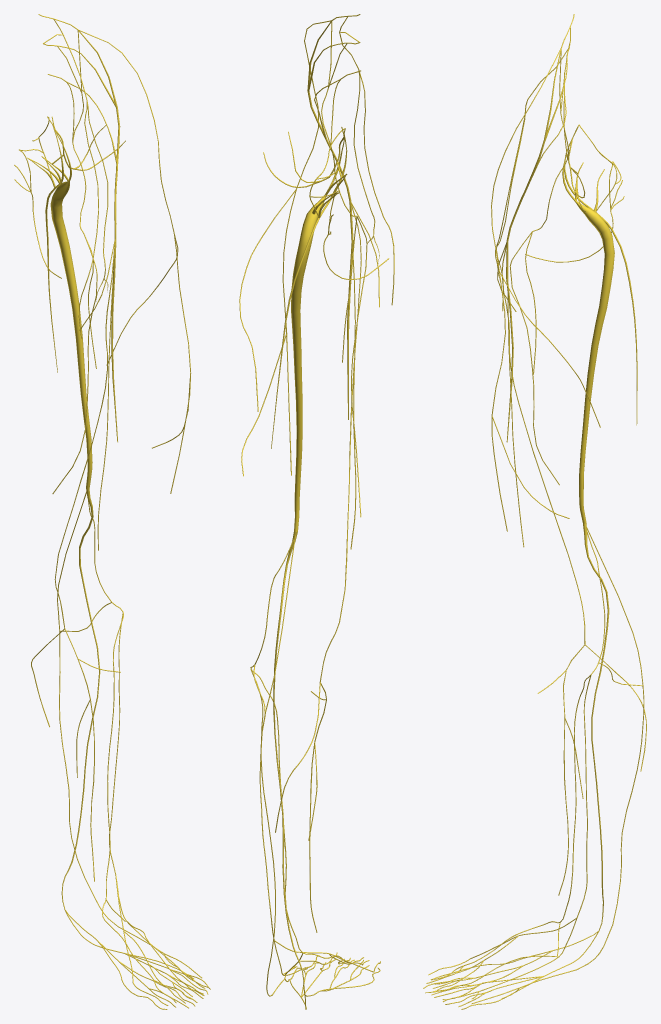
File: nerves.glb
3 renders of one model, left to right at view 1: azimuth 30°, elevation 25°; view 2: azimuth 150°, elevation 25°; view 3: azimuth 270°, elevation 25°, orthographic. The views are drawn at different scales.
Visible parts, largest first — view 1: Sciatic nerve.l.001, Femoral nerve.l.001, Saphenous nerve.l.001, Lateral femoral cutaneous nerve.l.001, Tibial nerve.l.001, Sural nerve.l.001, Deep fibular nerve.l.001, Obturator nerve.l.001, Posterior femoral cutaneous nerve.l.001; view 2: Sciatic nerve.l.001, Saphenous nerve.l.001, Lateral femoral cutaneous nerve.l.001, Femoral nerve.l.001, Tibial nerve.l.001, Posterior femoral cutaneous nerve.l.001, Sural nerve.l.001, Obturator nerve.l.001, Anterior branch of obturator nerve.l.001, Anterior cutaneous branches of femoral nerve.l.001, Deep fibular nerve.l.001, Genital branch of genitofemoral nerve.l.001 (+2 smaller); view 3: Sciatic nerve.l.001, Saphenous nerve.l.001, Lateral femoral cutaneous nerve.l.001, Femoral nerve.l.001, Tibial nerve.l.001, Sural nerve.l.001, Posterior femoral cutaneous nerve.l.001, Deep fibular nerve.l.001.
Part boxes in pixels (left/top/right/bottom): Sciatic nerve.l.001: left=28, top=116, right=92, bottom=489; Femoral nerve.l.001: left=38, top=14, right=120, bottom=442; Saphenous nerve.l.001: left=31, top=241, right=115, bottom=881; Lateral femoral cutaneous nerve.l.001: left=78, top=29, right=191, bottom=493; Tibial nerve.l.001: left=61, top=489, right=100, bottom=909; Sural nerve.l.001: left=57, top=585, right=201, bottom=978; Deep fibular nerve.l.001: left=102, top=612, right=134, bottom=956; Obturator nerve.l.001: left=47, top=30, right=86, bottom=233; Posterior femoral cutaneous nerve.l.001: left=45, top=147, right=63, bottom=372; Sciatic nerve.l.001: left=291, top=127, right=346, bottom=531; Saphenous nerve.l.001: left=275, top=205, right=361, bottom=932; Lateral femoral cutaneous nerve.l.001: left=239, top=20, right=331, bottom=476; Femoral nerve.l.001: left=307, top=14, right=360, bottom=419; Tibial nerve.l.001: left=273, top=531, right=305, bottom=994; Posterior femoral cutaneous nerve.l.001: left=271, top=151, right=347, bottom=448; Sural nerve.l.001: left=260, top=674, right=297, bottom=996; Obturator nerve.l.001: left=321, top=21, right=360, bottom=216; Anterior branch of obturator nerve.l.001: left=351, top=217, right=367, bottom=517; Anterior cutaneous branches of femoral nerve.l.001: left=350, top=217, right=356, bottom=549; Deep fibular nerve.l.001: left=251, top=669, right=345, bottom=961; Genital branch of genitofemoral nerve.l.001: left=358, top=70, right=394, bottom=305; Sciatic nerve.l.001: left=562, top=127, right=614, bottom=523; Saphenous nerve.l.001: left=501, top=243, right=646, bottom=895; Lateral femoral cutaneous nerve.l.001: left=491, top=48, right=600, bottom=531; Femoral nerve.l.001: left=506, top=14, right=574, bottom=442; Tibial nerve.l.001: left=583, top=523, right=609, bottom=930; Sural nerve.l.001: left=471, top=632, right=644, bottom=1003; Posterior femoral cutaneous nerve.l.001: left=564, top=154, right=637, bottom=425; Deep fibular nerve.l.001: left=493, top=675, right=590, bottom=950.
Bounding box in the file's own units: 0.1501 × 1.09 × 0.2356.
